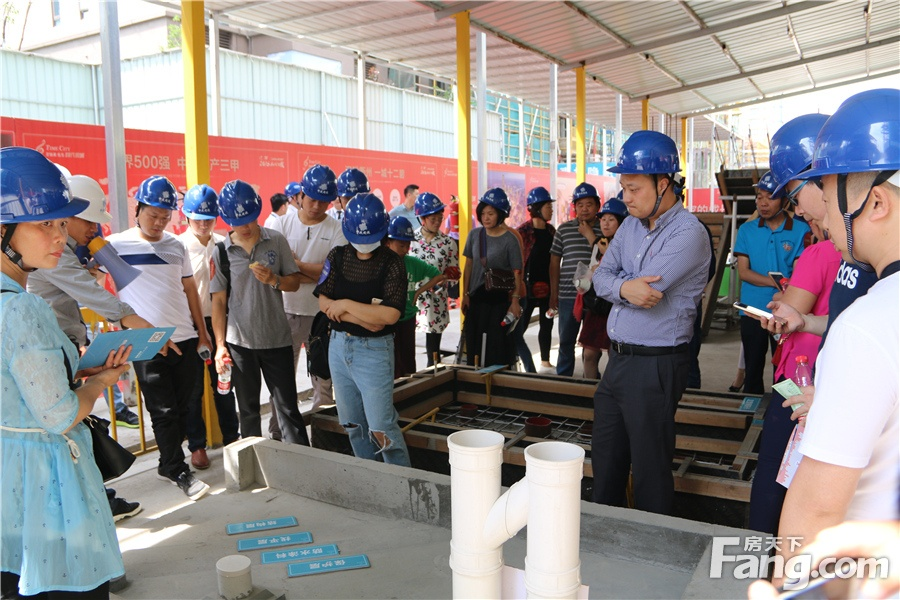blue: (818, 85, 900, 267), (1, 144, 70, 278), (769, 112, 840, 231), (612, 127, 680, 217), (216, 178, 263, 238), (133, 175, 177, 238), (342, 193, 385, 256), (180, 184, 220, 240), (299, 164, 338, 219), (754, 171, 787, 220), (523, 185, 556, 225), (473, 190, 506, 230), (383, 217, 414, 256), (417, 192, 446, 233), (598, 196, 625, 238), (570, 181, 598, 220), (284, 180, 304, 207)
none: (267, 191, 286, 215), (401, 183, 419, 204)
white: (63, 175, 111, 245)
